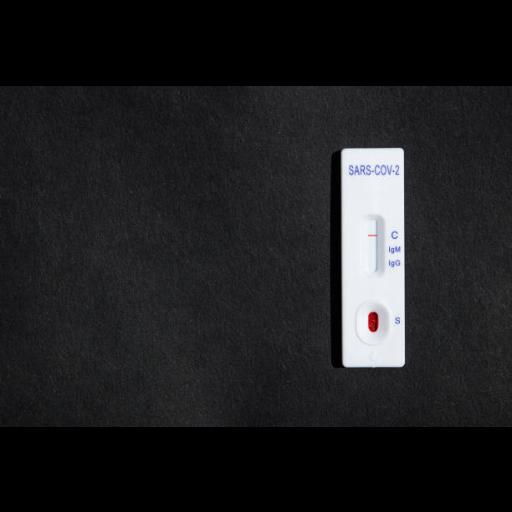Neg: (341, 148, 405, 364)
